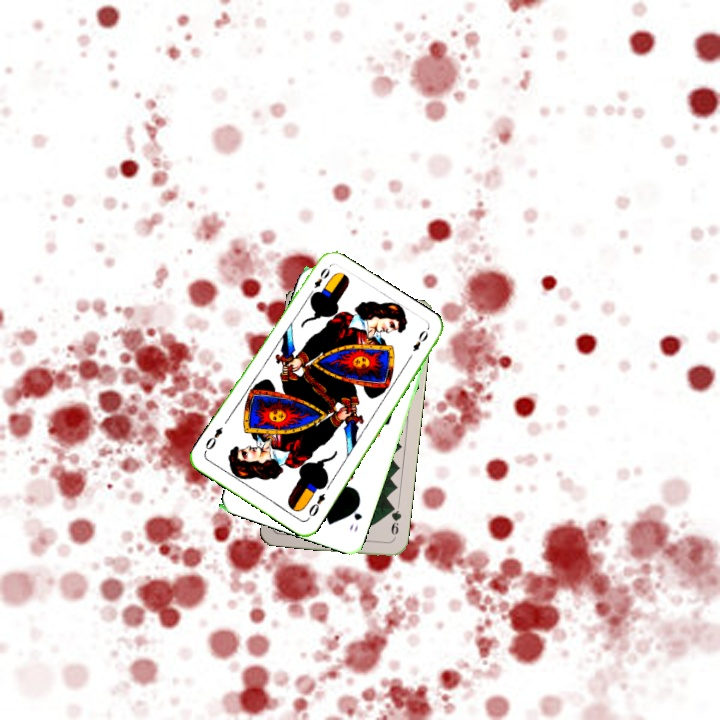EO: (305, 264, 333, 299), (303, 489, 328, 522)
G9: (387, 501, 404, 542)
GO: (345, 498, 364, 534)
